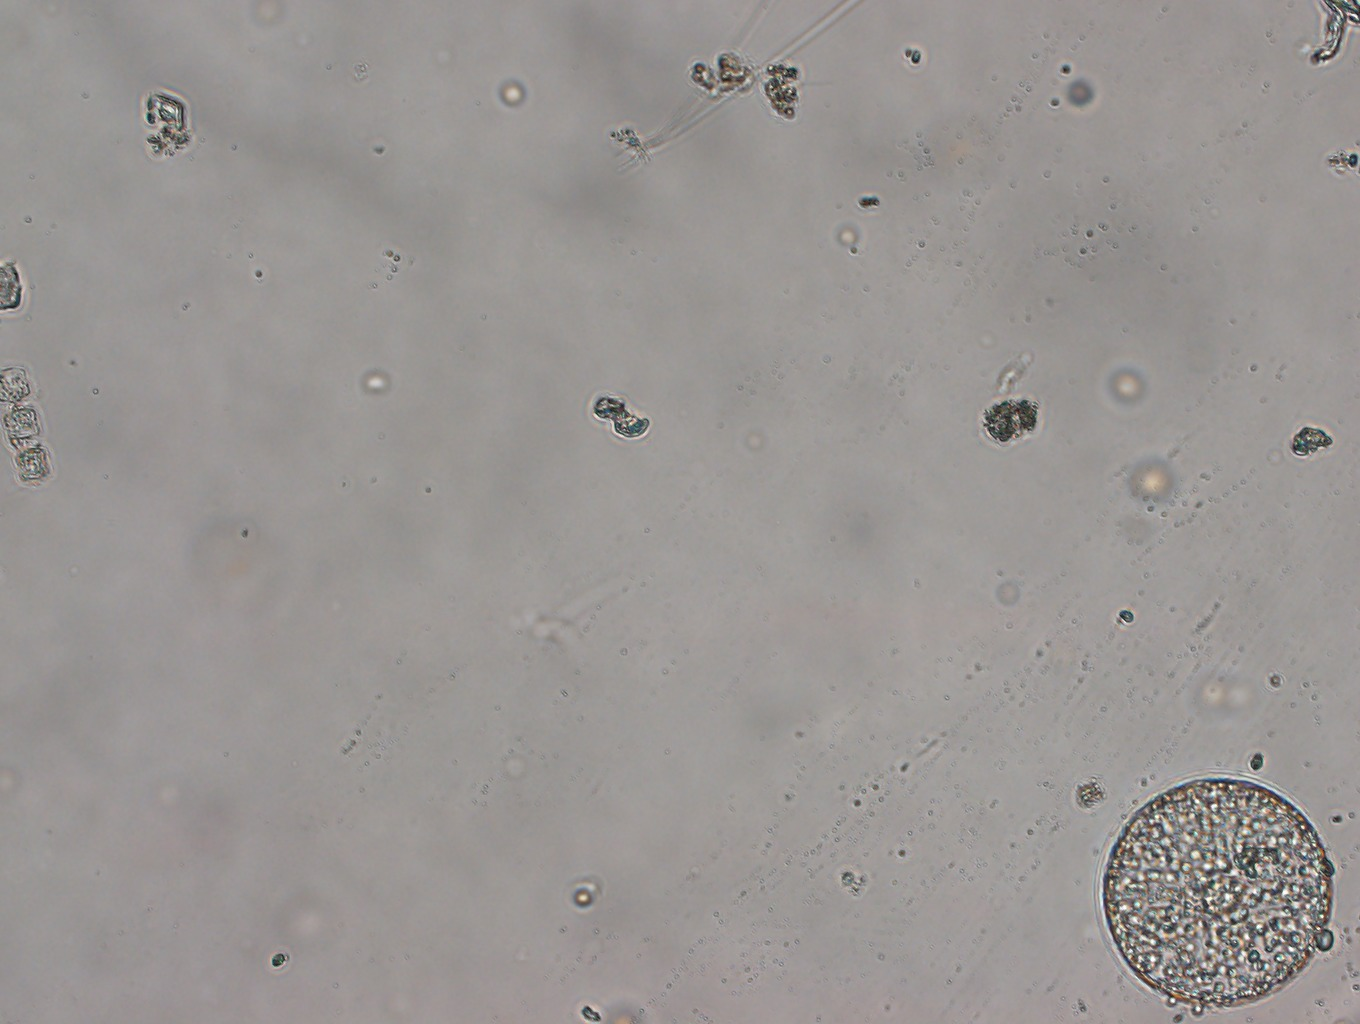coscinodiscus: (1096, 772, 1340, 1010)
